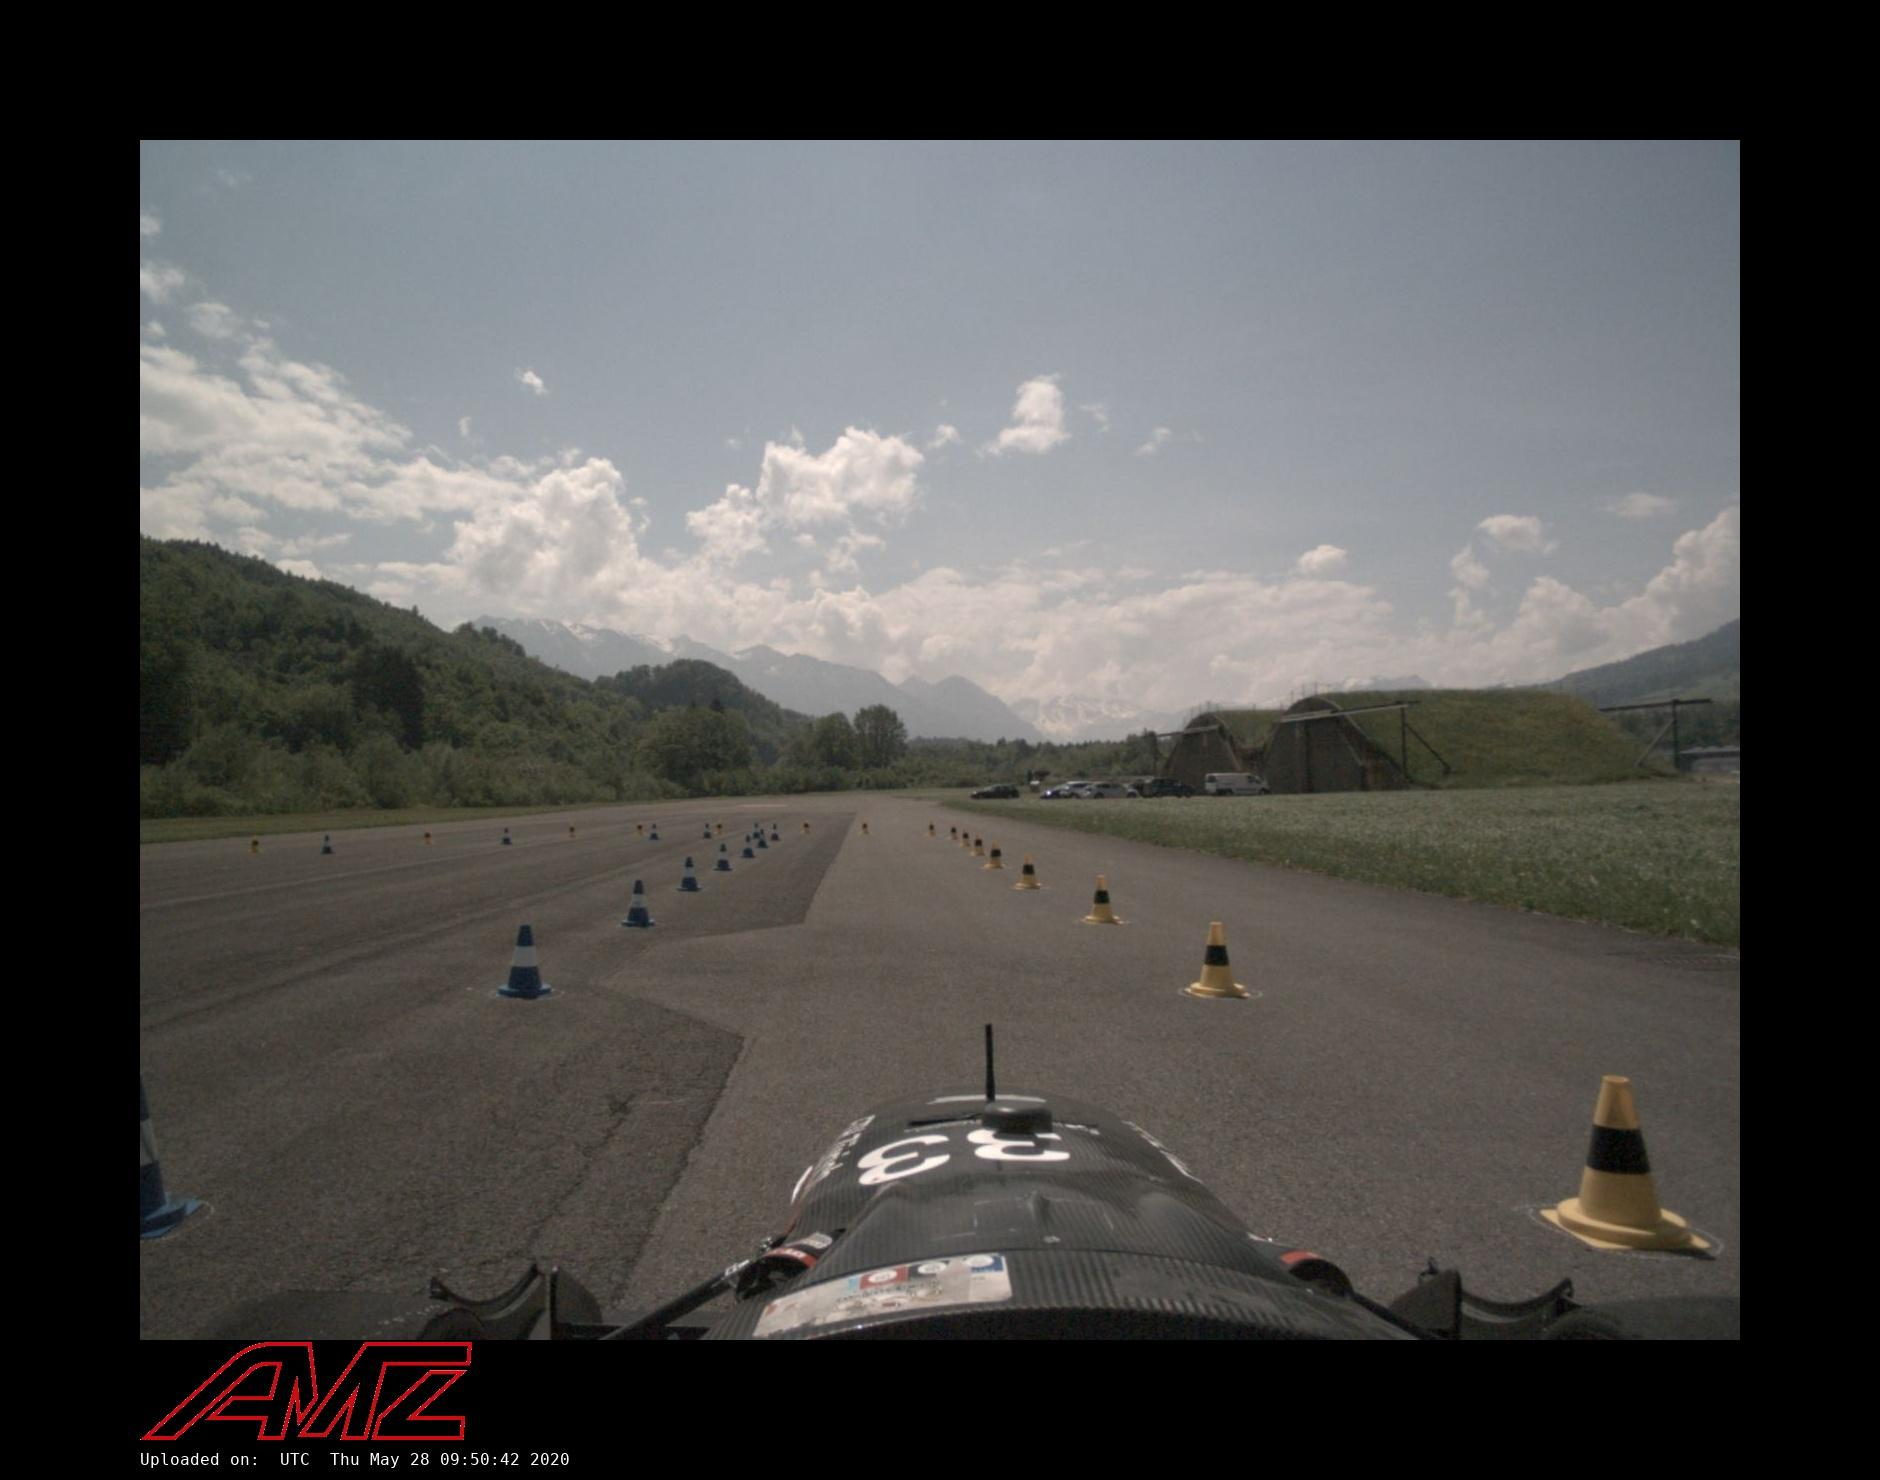blue_cone: (140, 1080, 204, 1240), (491, 923, 555, 999), (620, 880, 656, 928), (676, 856, 702, 893), (713, 844, 732, 873), (740, 835, 755, 859), (320, 835, 336, 854), (755, 828, 769, 848), (501, 827, 514, 845), (769, 824, 781, 842), (649, 822, 661, 841), (700, 822, 713, 839), (751, 822, 761, 841)
yellow_cone: (1540, 1073, 1711, 1253), (1186, 922, 1248, 999), (1080, 874, 1120, 925), (1013, 854, 1042, 891), (983, 841, 1006, 870), (971, 832, 986, 857), (250, 836, 262, 854), (421, 828, 433, 845), (960, 828, 971, 847), (948, 822, 958, 841), (566, 822, 578, 838), (926, 821, 937, 838), (801, 819, 812, 835), (861, 821, 870, 835), (636, 822, 645, 836), (716, 821, 723, 835)
